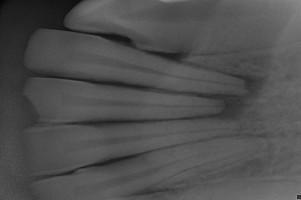Furcation Involvement: (192, 75, 266, 118)
